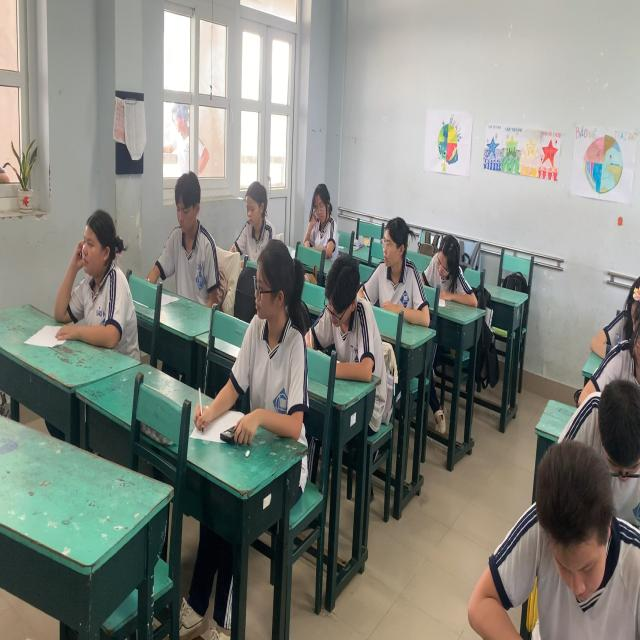not_cheating: (506, 428, 628, 616), (239, 235, 306, 427), (150, 170, 216, 310), (60, 202, 124, 337), (317, 255, 373, 382), (574, 361, 638, 471), (373, 207, 414, 323), (310, 176, 340, 259), (241, 178, 270, 262), (430, 227, 460, 308)
